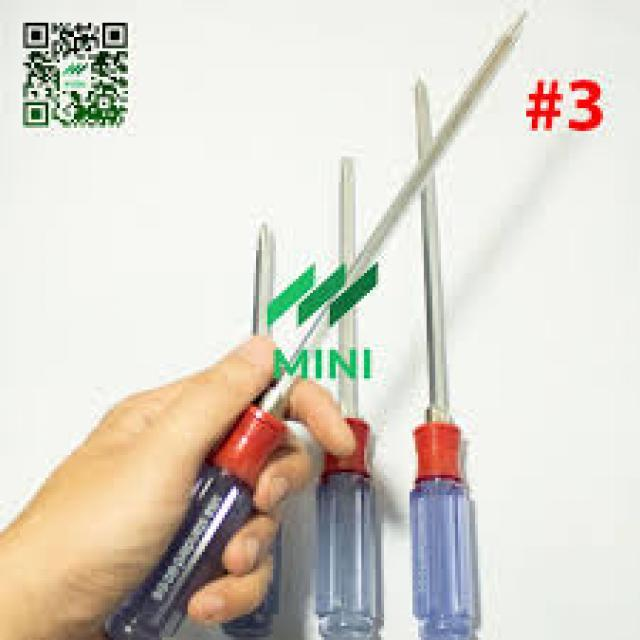screwdriver: (100, 0, 530, 640), (302, 151, 392, 640), (408, 74, 485, 640), (210, 216, 284, 640)
